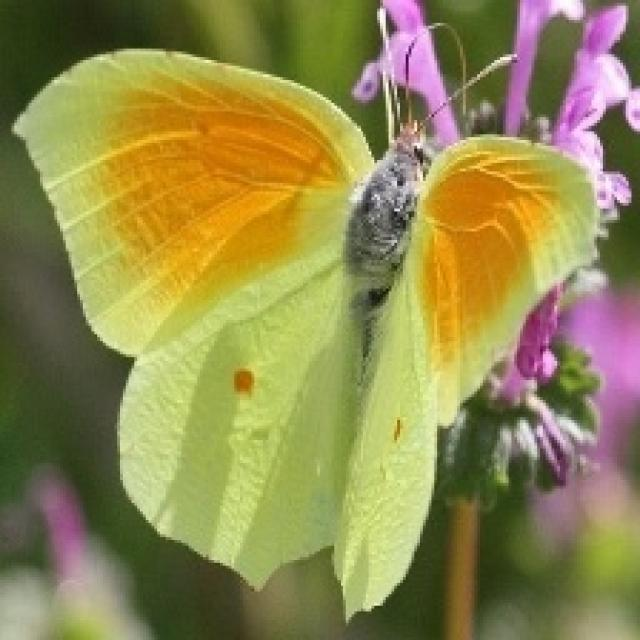butterfly: (9, 3, 612, 623)
